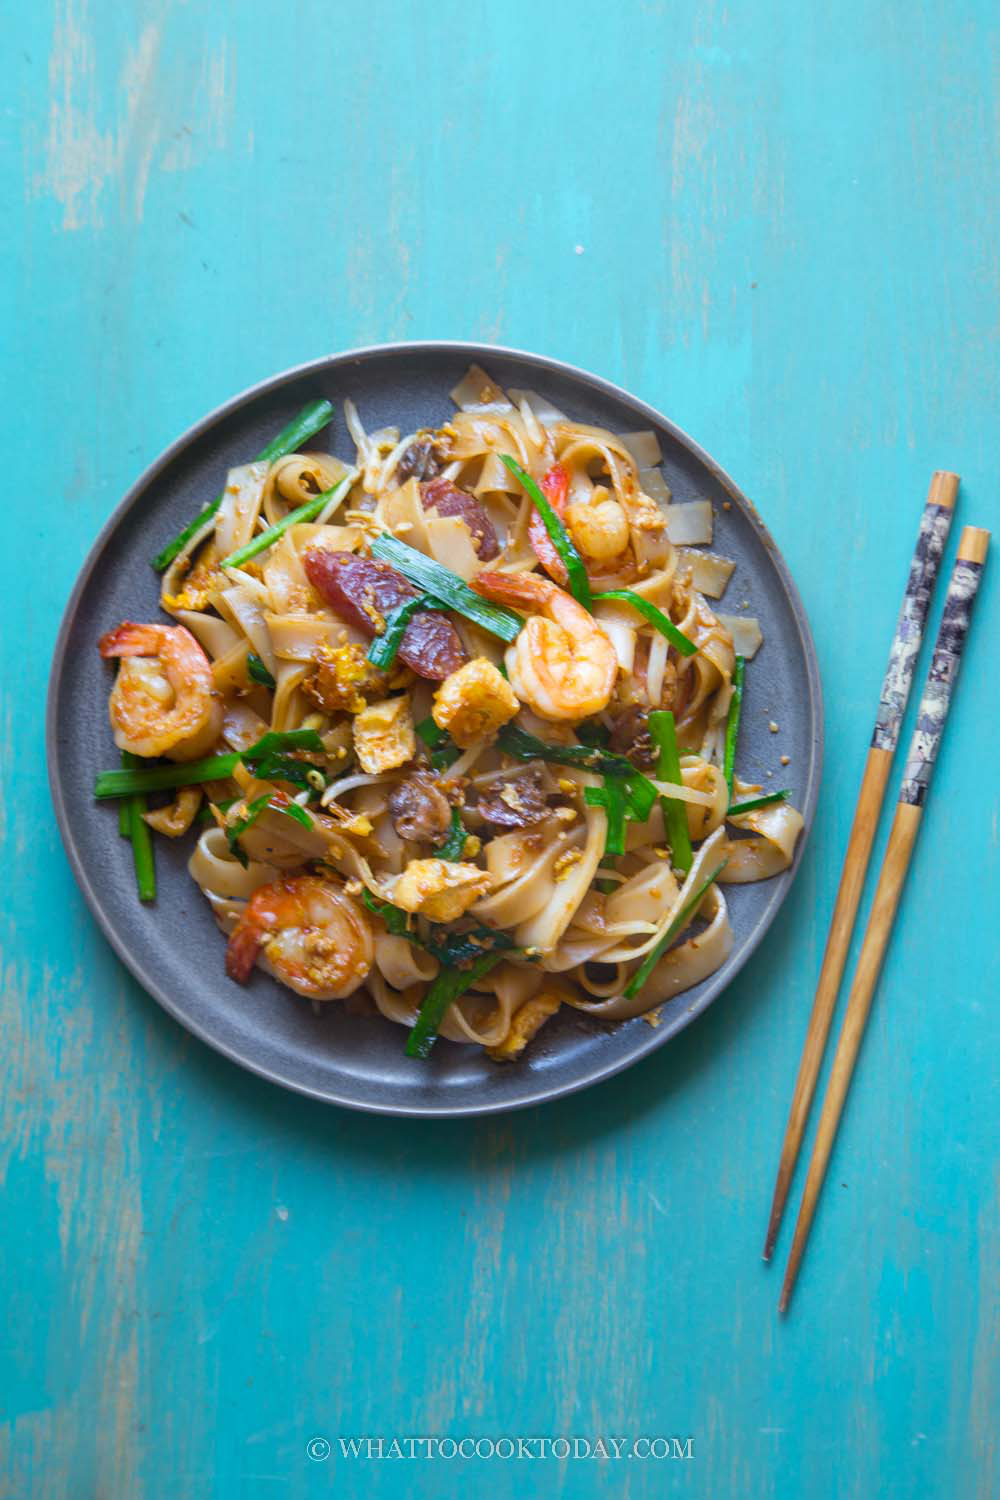Char Kway Teow: (97, 373, 824, 1100)
